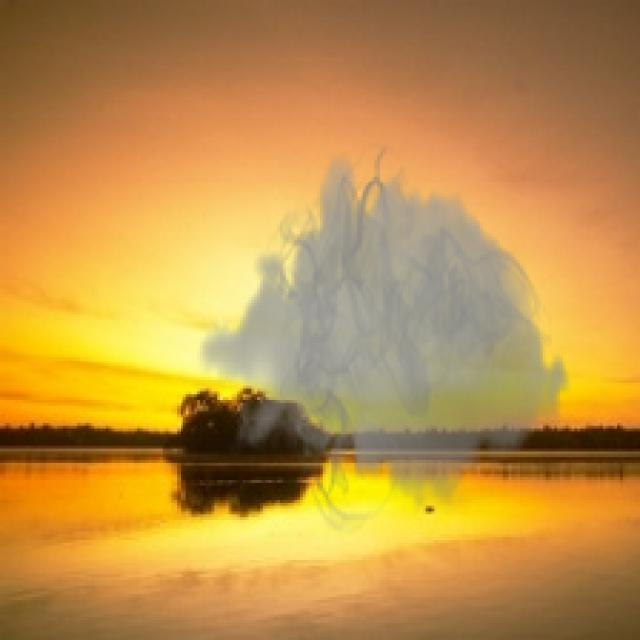smoke: (197, 140, 572, 540)
